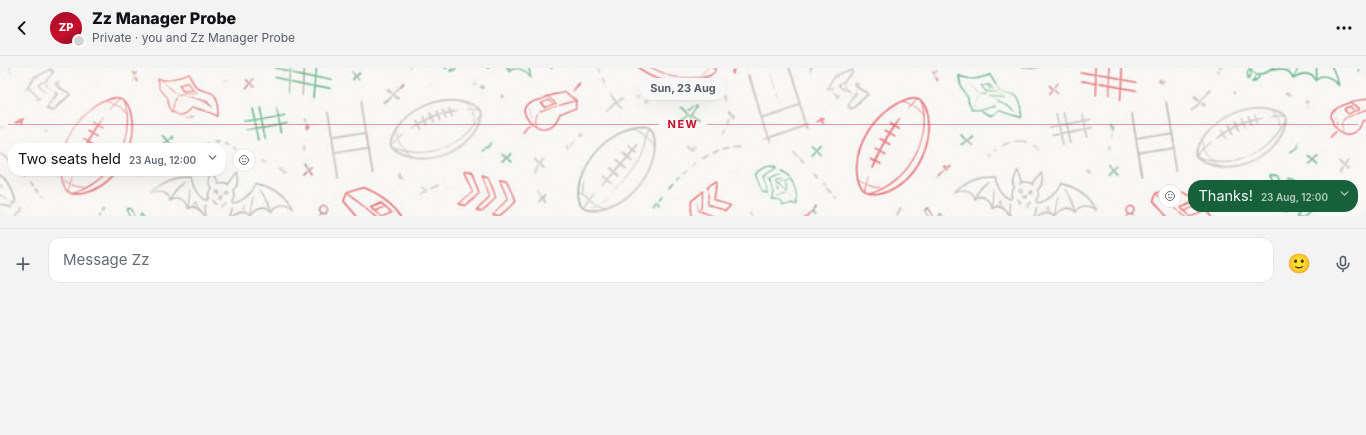
the chevron menu › mine offers Delete and no Report or Reply-privately; theirs the reverse in a DM
Click the button named "Message options" in the row of "Thanks!" at (1344, 194), box [1334,184,1354,204]
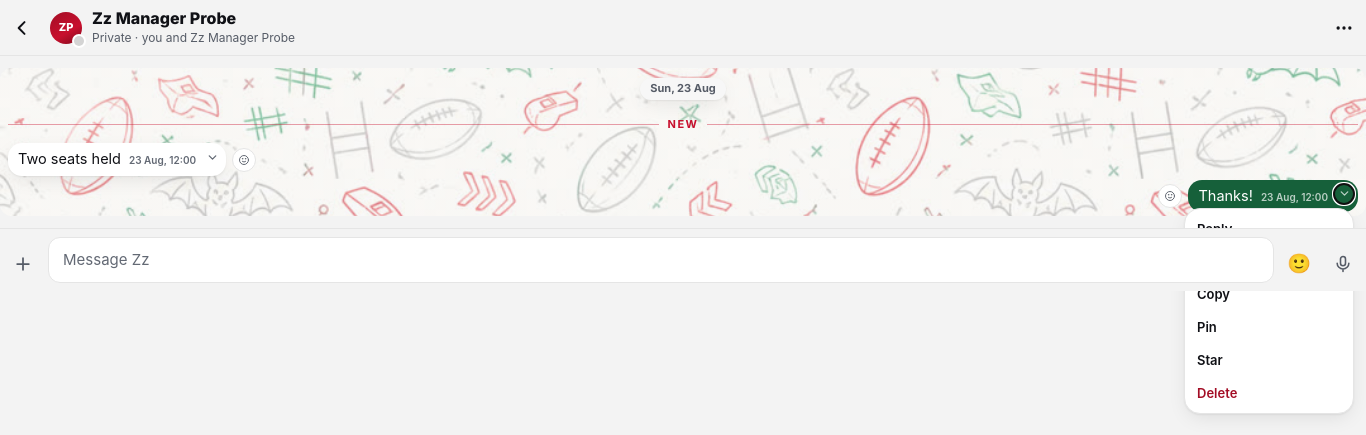
expect the menu item "Report" is not shown: met
expect the menu item "Delete" is shown: met, box [1185,377,1353,410]
Press Escape
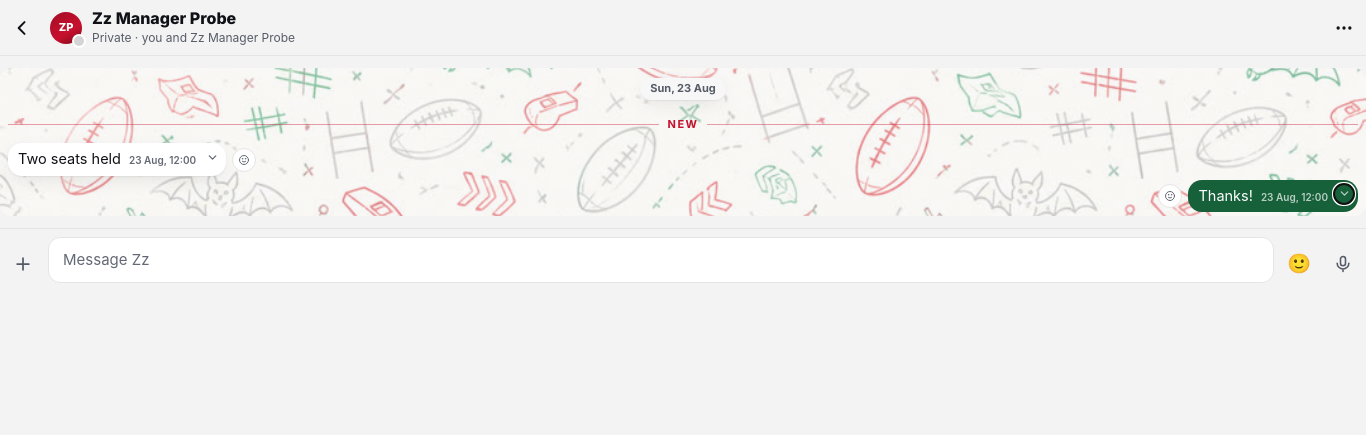
Click the button named "Message options" in the row of "Two seats held" at (212, 157), box [202,147,222,167]
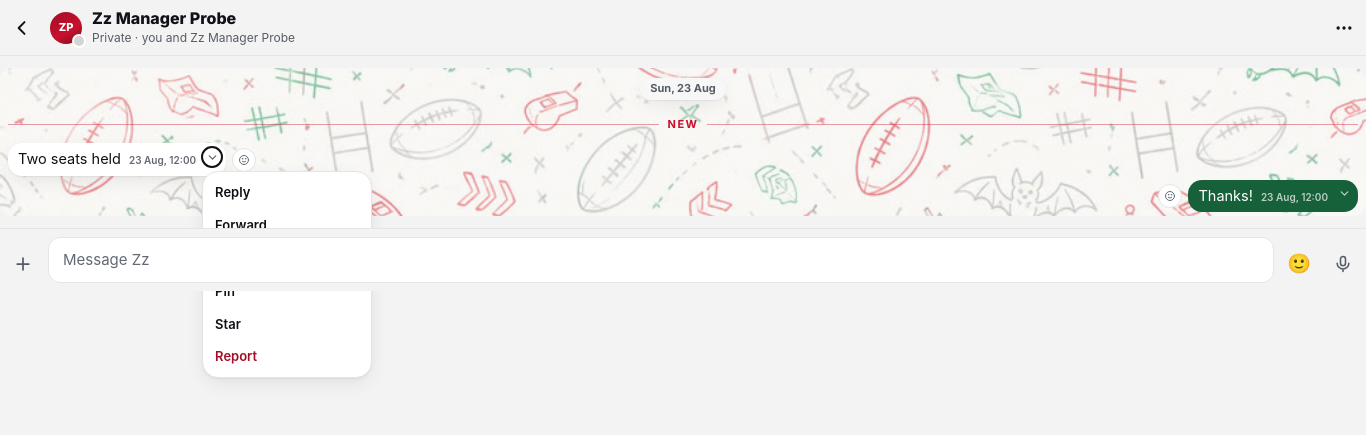
expect the menu item "Delete" is not shown: met
expect the menu item "Report" is shown: met, box [203,340,371,373]
